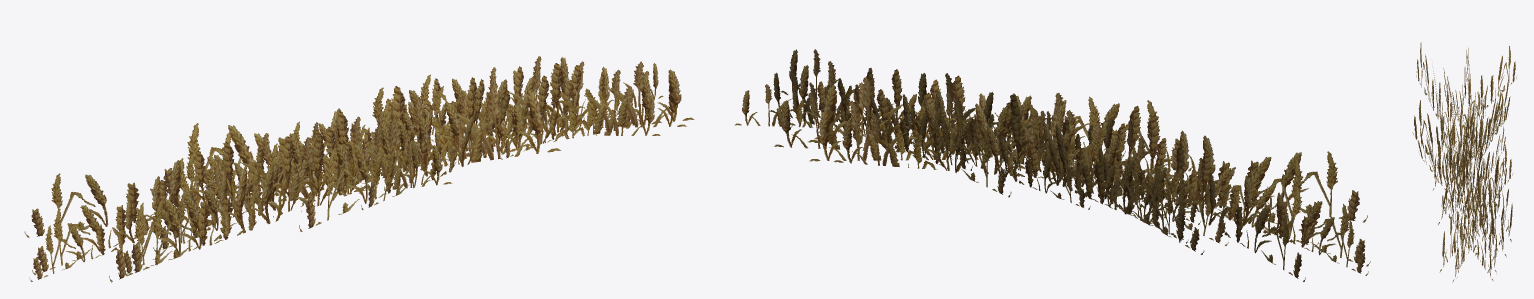
The model's file is far.glb.
The picture shows the model from 3 angles, left to right: view 1: azimuth 30°, elevation 25°; view 2: azimuth 150°, elevation 25°; view 3: azimuth 270°, elevation 25°; orthographic projection. The views are drawn at different scales.
Visible parts, largest first — view 1: lod1, lod2; view 2: lod1, lod2; view 3: lod1, lod2.
Boxes of the visible parts, box(x1,y1,x2,y2) form: lod1: box(24, 61, 686, 274); lod2: box(29, 56, 694, 282); lod1: box(770, 61, 1370, 281); lod2: box(734, 49, 1368, 275); lod1: box(1418, 46, 1516, 282); lod2: box(1412, 42, 1513, 281).
Size of the model in its own units: 11.24 by 1.93 by 2.38.
1 material, 1 textured.
